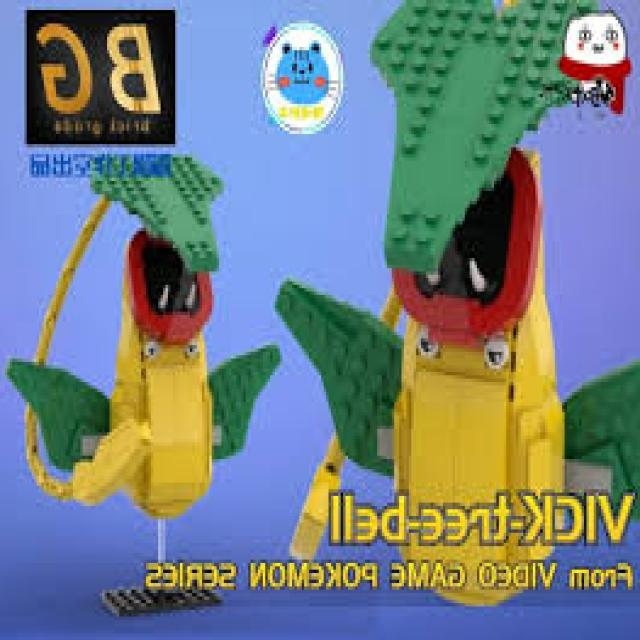Victreebel: (392, 136, 562, 582), (98, 217, 222, 512)
